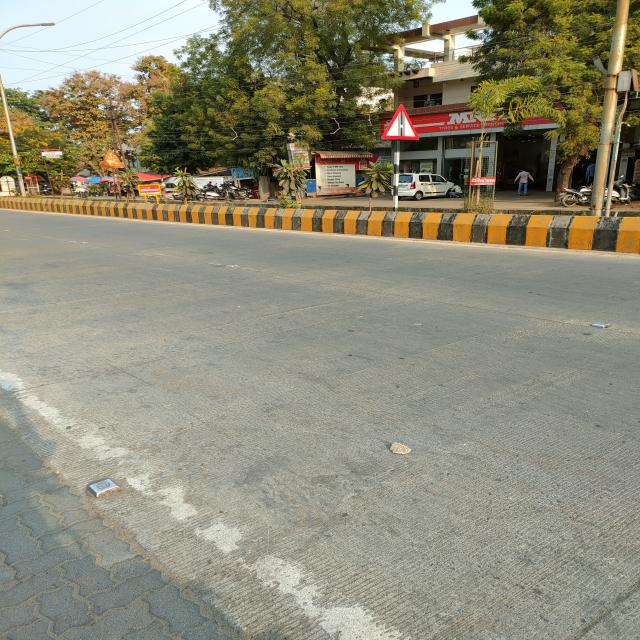ferry: (381, 104, 421, 140)
